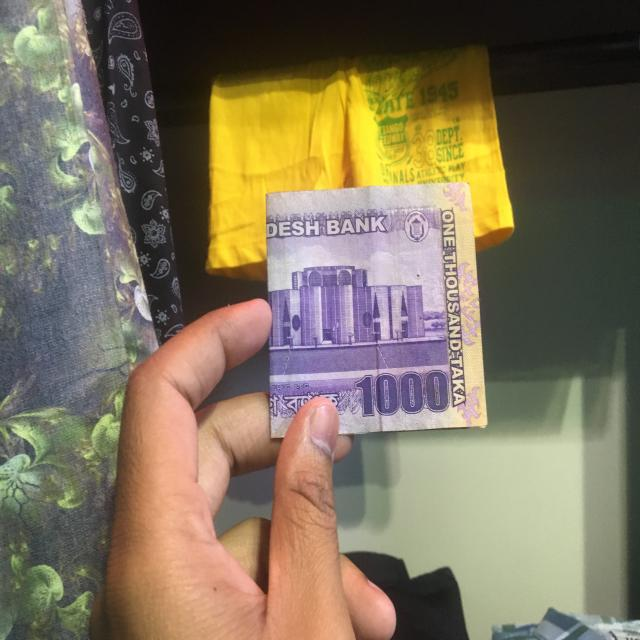Taka: (264, 184, 490, 431)
